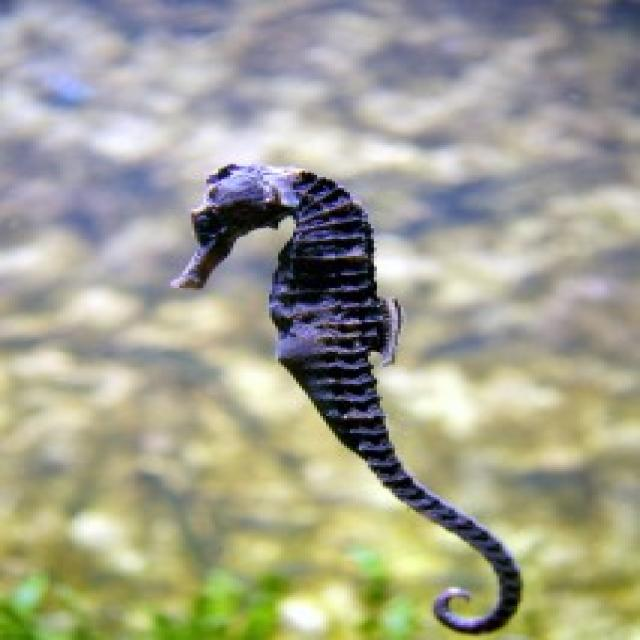Seahorse: (148, 172, 559, 640)
